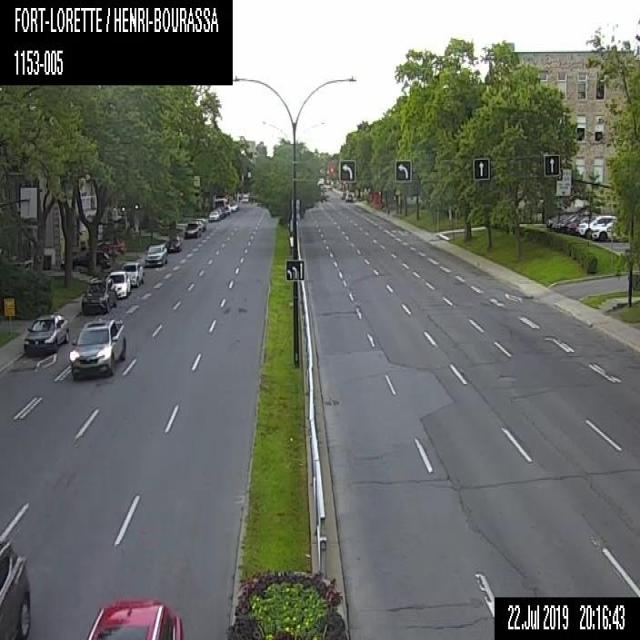vehicle: (85, 597, 183, 639), (69, 317, 127, 383), (0, 538, 32, 638), (21, 313, 65, 355), (81, 276, 118, 314), (576, 213, 618, 238), (63, 248, 110, 270), (590, 218, 627, 242), (120, 262, 145, 287), (107, 270, 130, 297), (96, 234, 124, 254), (144, 243, 166, 265), (183, 218, 202, 236), (164, 236, 181, 250), (214, 196, 226, 214), (195, 216, 206, 229), (208, 208, 219, 220), (344, 192, 353, 202), (216, 206, 224, 216), (224, 204, 230, 212), (340, 191, 346, 198)
